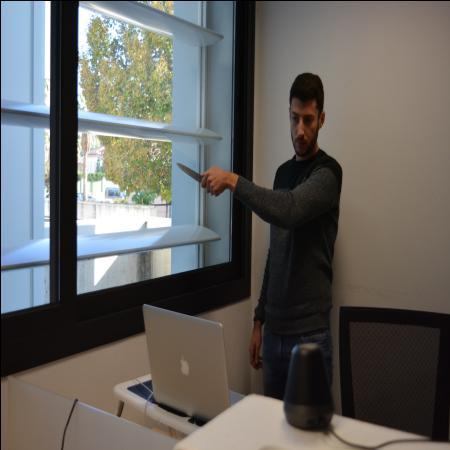long weapon: (174, 160, 208, 186)
